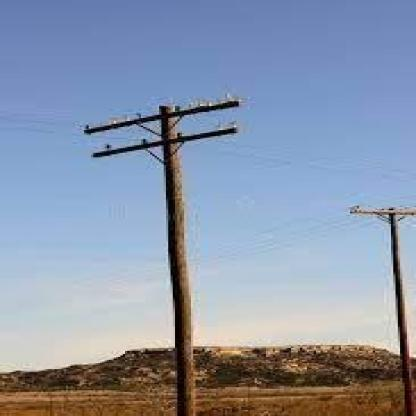Electrical Pole: (73, 93, 243, 412)
